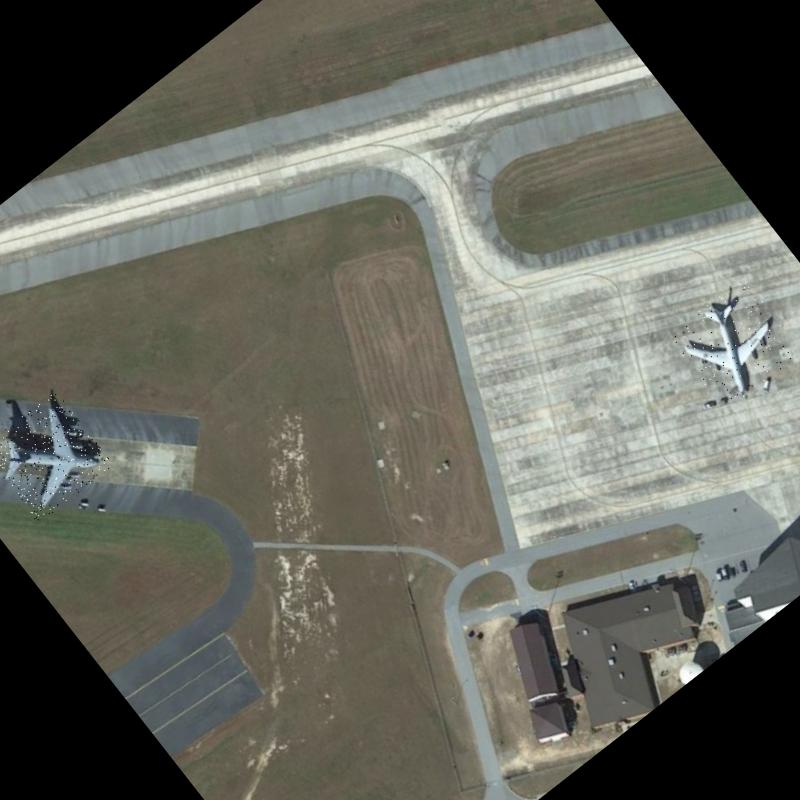A11: (667, 275, 800, 411)
A3: (0, 390, 114, 524)
